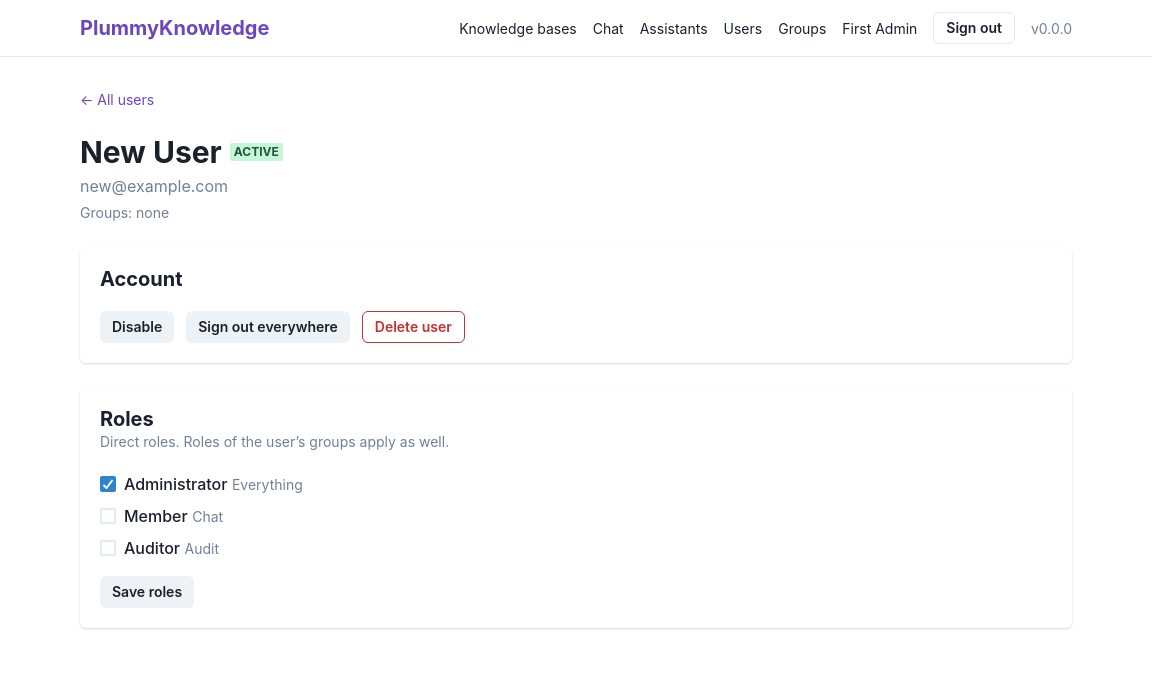
Test: administration pages › explains the last-administrator rule on the user page
Click the checkbox labelled "Administrator Everything": click(201, 484) 100,474 -> 303,494
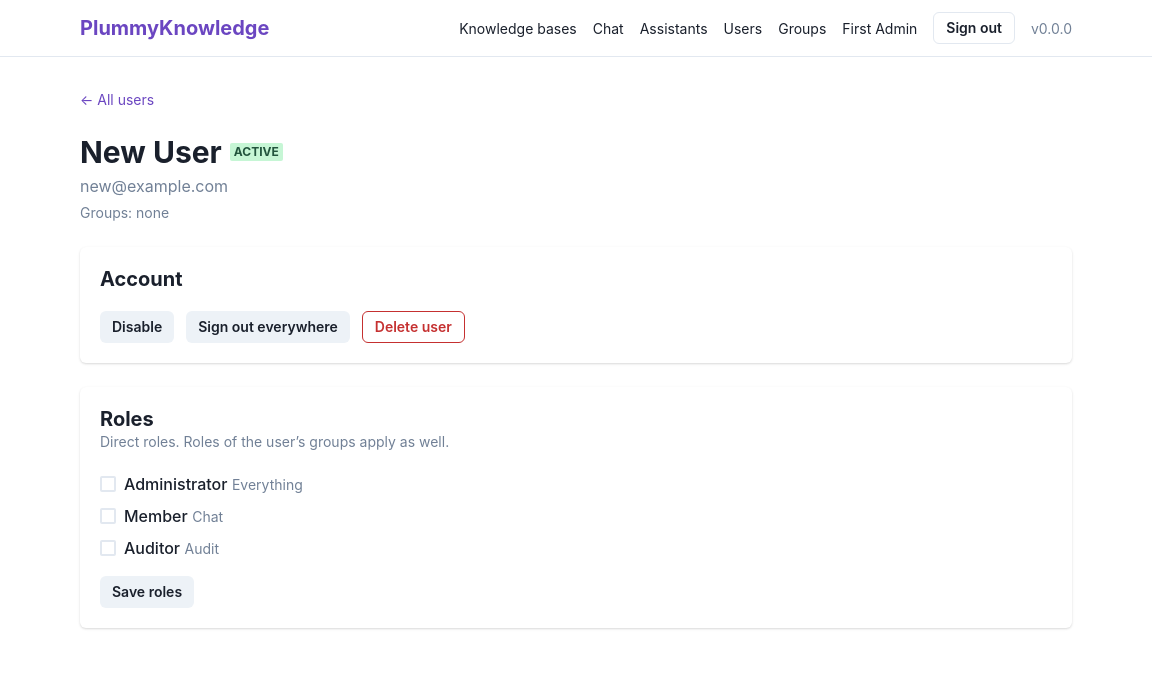
Click the button "Save roles": click(147, 592) 100,576 -> 194,608
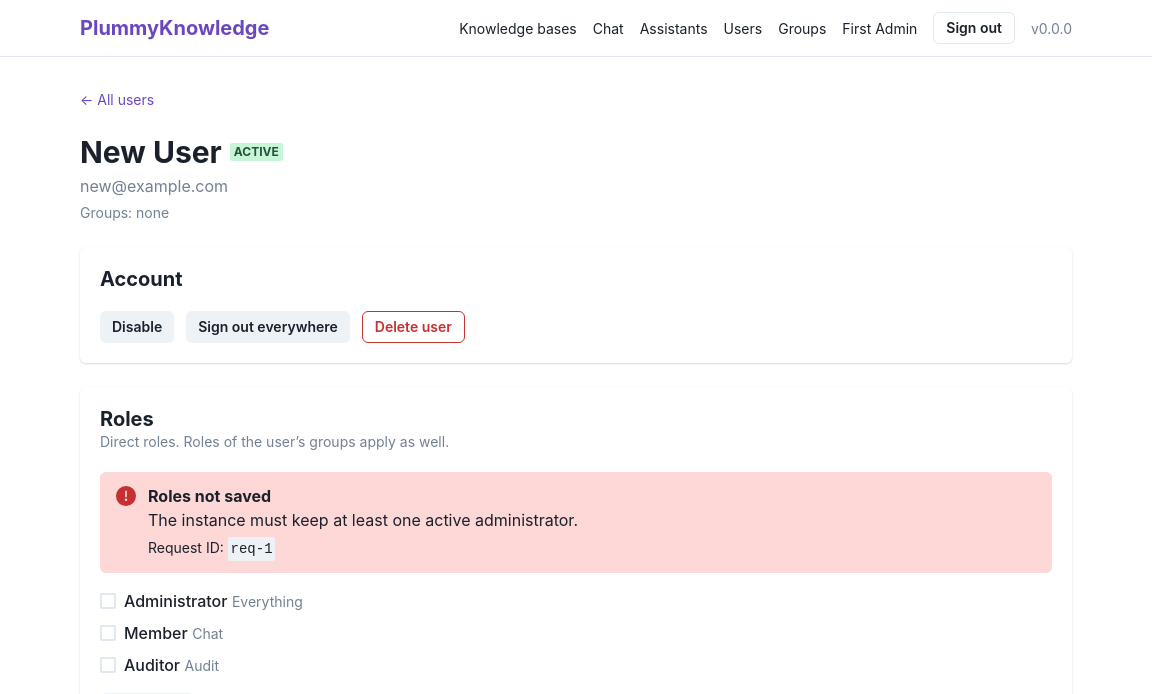
Expected: the text "The instance must keep at least one active administrator." is shown, 148,508 -> 578,532
